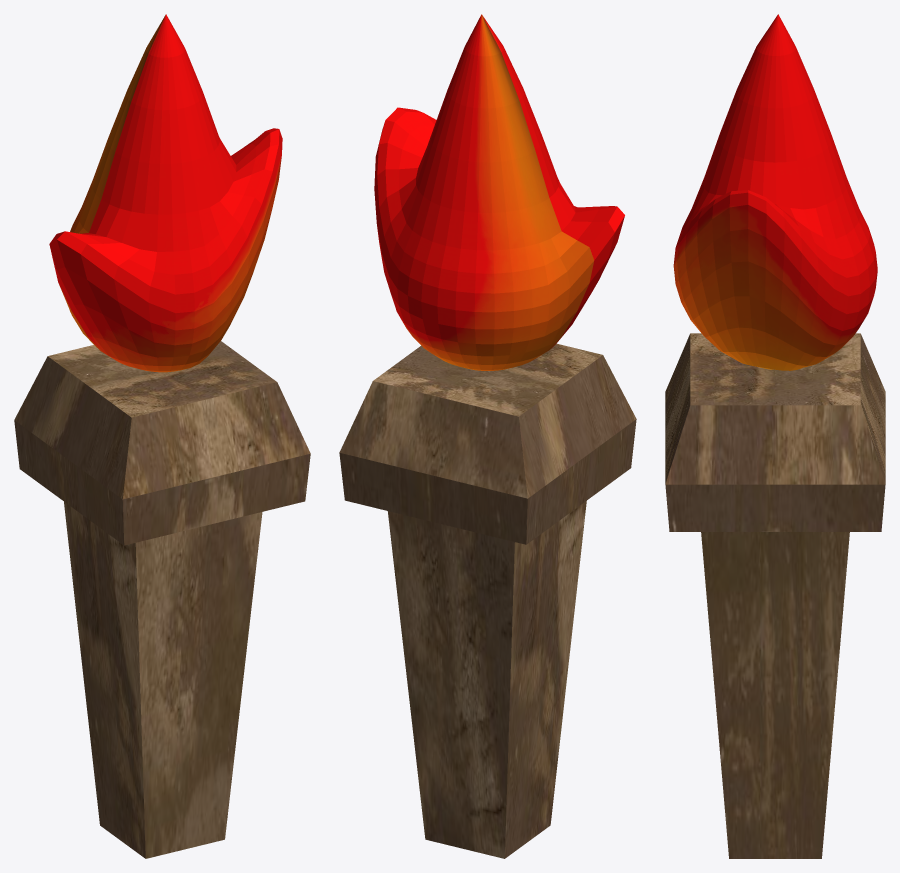
Rendered from torch.gltf.
3 views of the same model, side by side, from view 1: azimuth 30°, elevation 25°; view 2: azimuth 150°, elevation 25°; view 3: azimuth 270°, elevation 25° (orthographic).
Visible parts, largest first — view 1: Cube, Sphere; view 2: Cube, Sphere; view 3: Cube, Sphere.
Boxes of the visible parts, bbox=[...] form: Cube: bbox=[14, 341, 310, 858]; Sphere: bbox=[49, 14, 282, 372]; Cube: bbox=[339, 343, 636, 858]; Sphere: bbox=[374, 14, 624, 370]; Cube: bbox=[665, 333, 885, 858]; Sphere: bbox=[673, 14, 877, 370].
Size of the model in its own units: 1.9 by 6.42 by 1.55.
2 materials, 2 textured.
